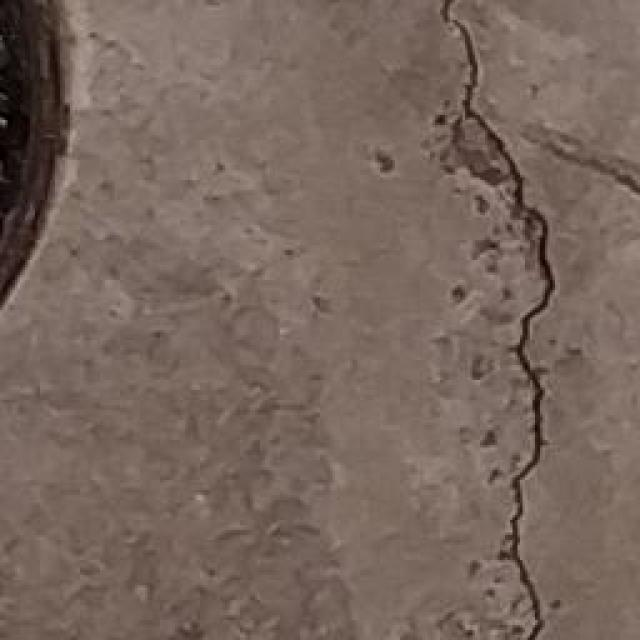Longitudinal: (404, 0, 556, 640)
